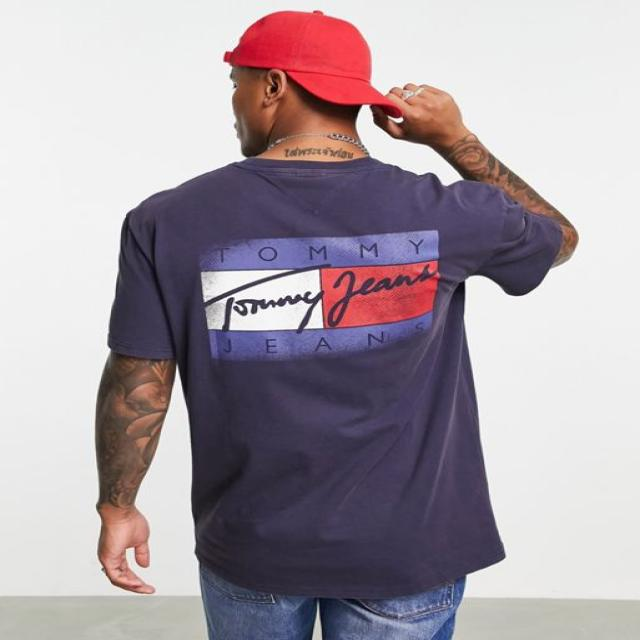tshirt: (104, 154, 562, 594)
